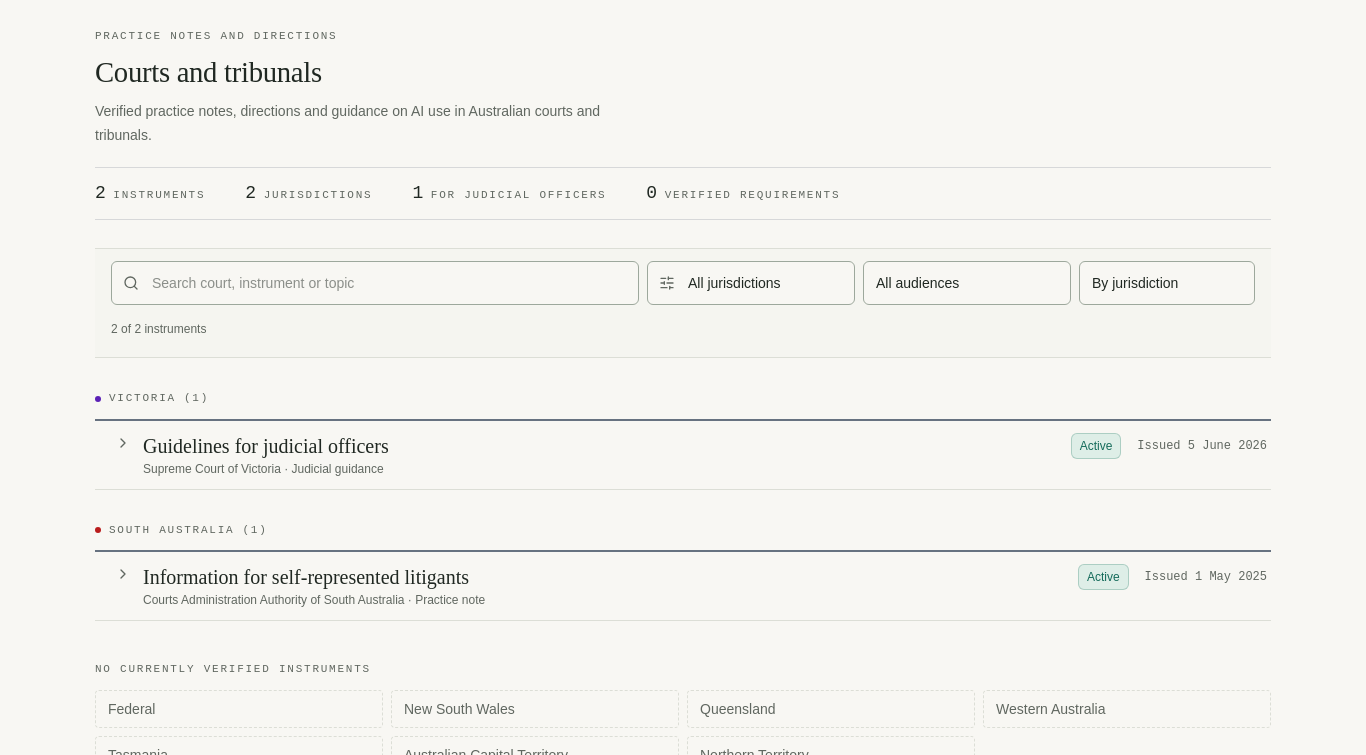
Test case: CourtsBrowser › shows the individual source check date without claiming new review
The image size is (1366, 755).
(page scrolled)
Click the button "Guidelines for judicial officers" at (266, 446), box [107,421,1271,489]
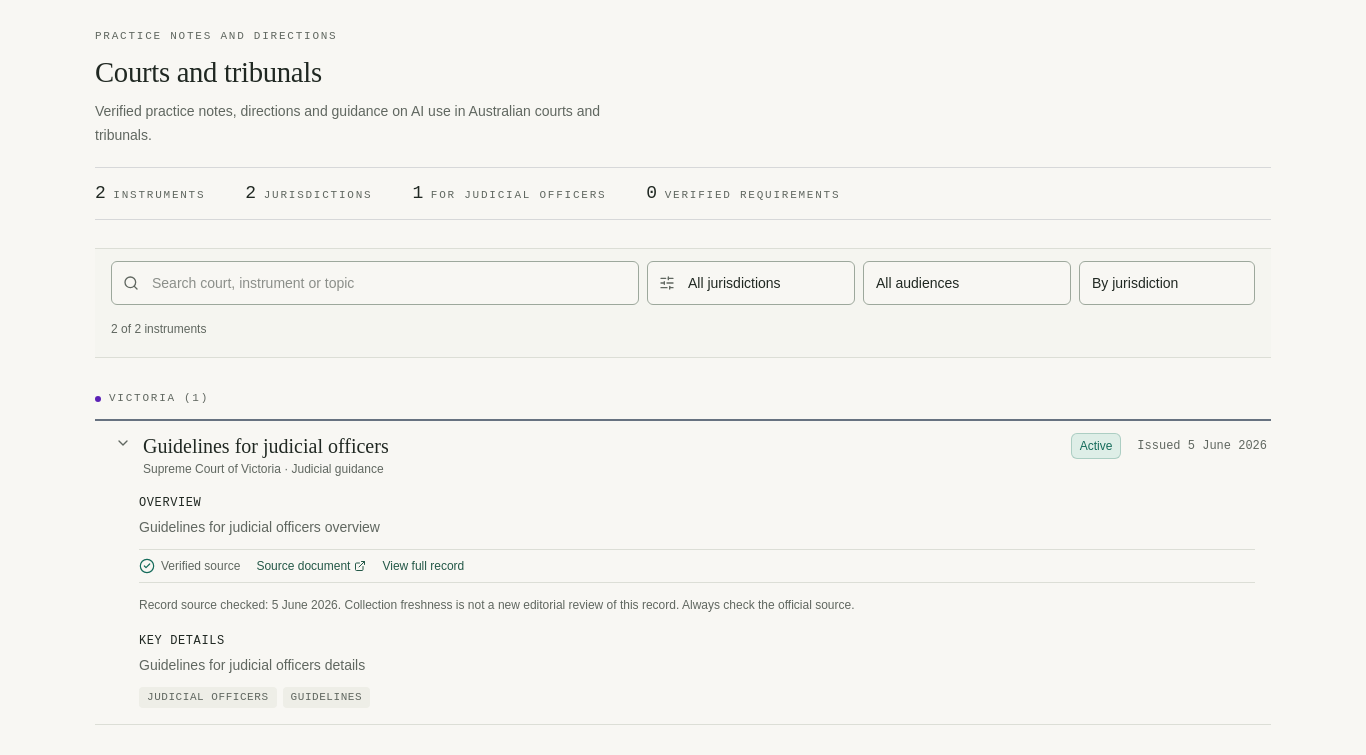
Expected: the text "Record source checked: 5 June 2026" is shown, [139,598,854,612]
Expected: the text "Collection freshness is not a new editorial review" is shown, [338,598,854,612]
